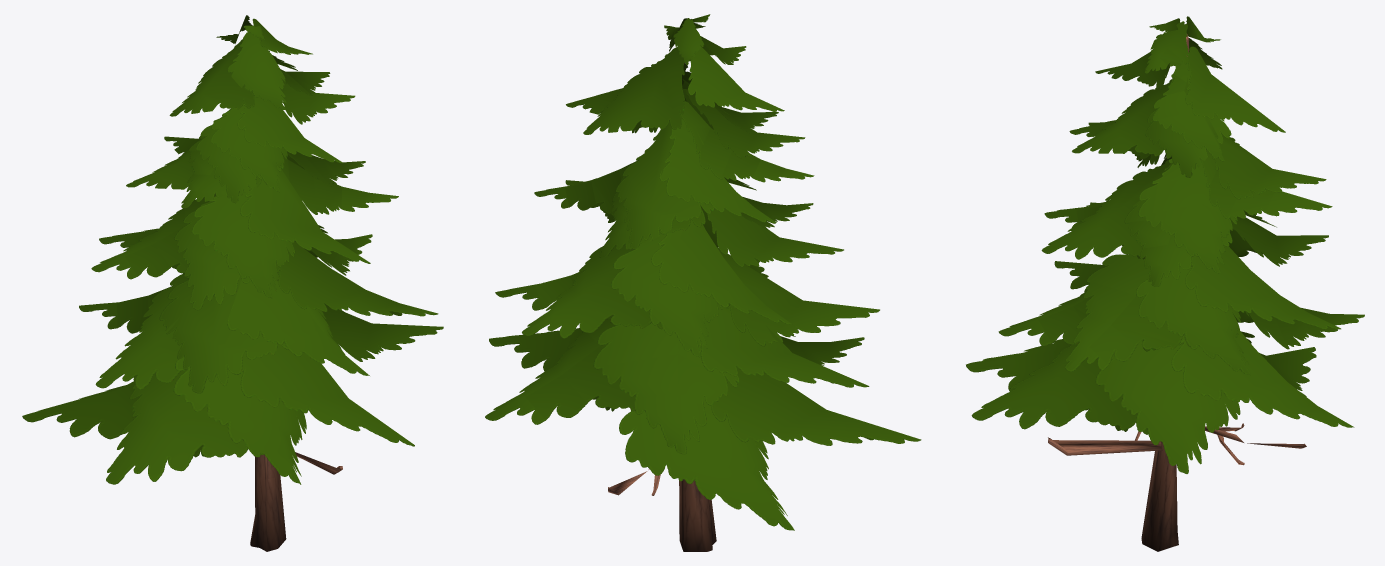
Rendered from pine_2_1.glb.
3 views of the same model, side by side, from view 1: azimuth 30°, elevation 25°; view 2: azimuth 150°, elevation 25°; view 3: azimuth 270°, elevation 25° (orthographic). The views are drawn at different scales.
Visible parts, largest first — view 1: Pine_2; view 2: Pine_2; view 3: Pine_2.
Part boxes in pixels (left/top/right/bottom): Pine_2: left=22, top=15, right=443, bottom=551; Pine_2: left=485, top=14, right=921, bottom=551; Pine_2: left=966, top=16, right=1364, bottom=551.
Bounding box in the file's own units: 5.73 × 7.34 × 5.22.
Materials: 2 (2 with a texture image).
